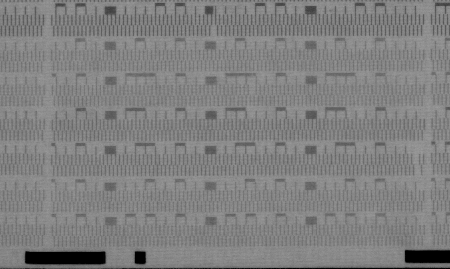Broken hole: (410, 153, 424, 178), (208, 24, 219, 38), (247, 83, 258, 96)
